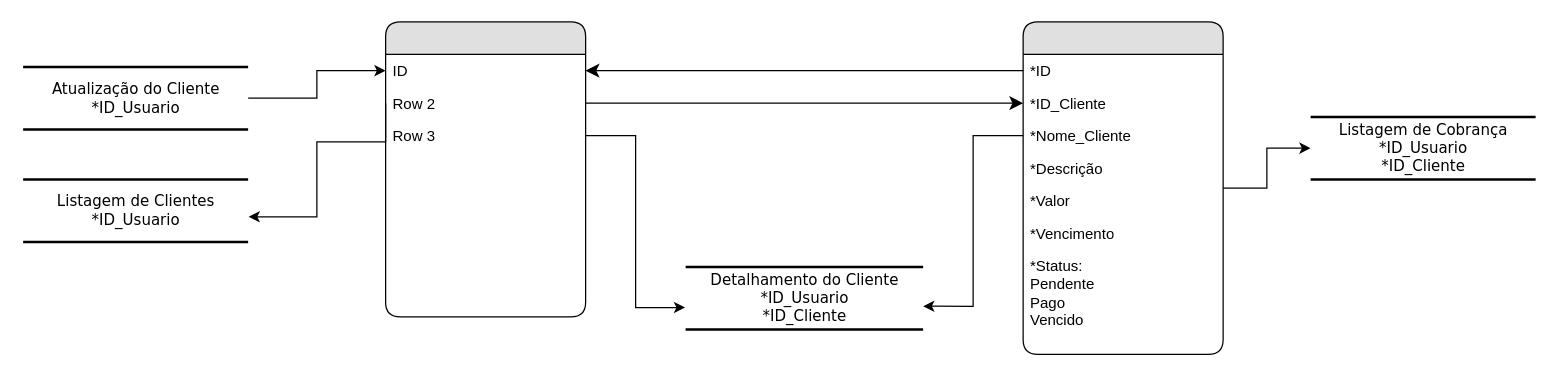
Image size: 1558x376. Some labels were removed from this diagram. Each missing label, with the box of its shape:
Cliente: (384, 21, 586, 317)
Cobrança: (1022, 21, 1223, 354)
